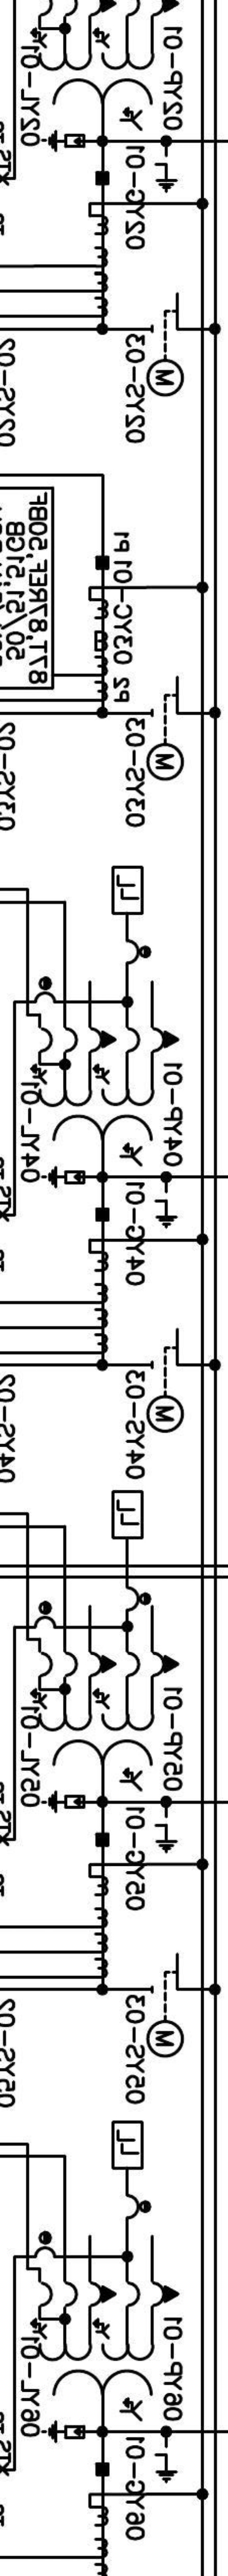115_1way_ds_w_motor: (145, 291, 184, 399), (146, 675, 185, 782), (145, 1952, 184, 2060), (145, 1327, 184, 1435)
115_gs: (153, 2444, 179, 2485), (153, 1814, 179, 1855), (153, 1189, 179, 1230), (153, 153, 179, 194)
115_la: (40, 1790, 86, 1815), (40, 1165, 86, 1190), (40, 129, 86, 154), (40, 2420, 86, 2444)
115_vt_3p: (29, 2280, 180, 2422), (29, 1651, 180, 1793), (29, 1026, 180, 1168)
LL: (111, 2120, 145, 2170), (111, 1490, 144, 1541), (111, 865, 144, 916)
